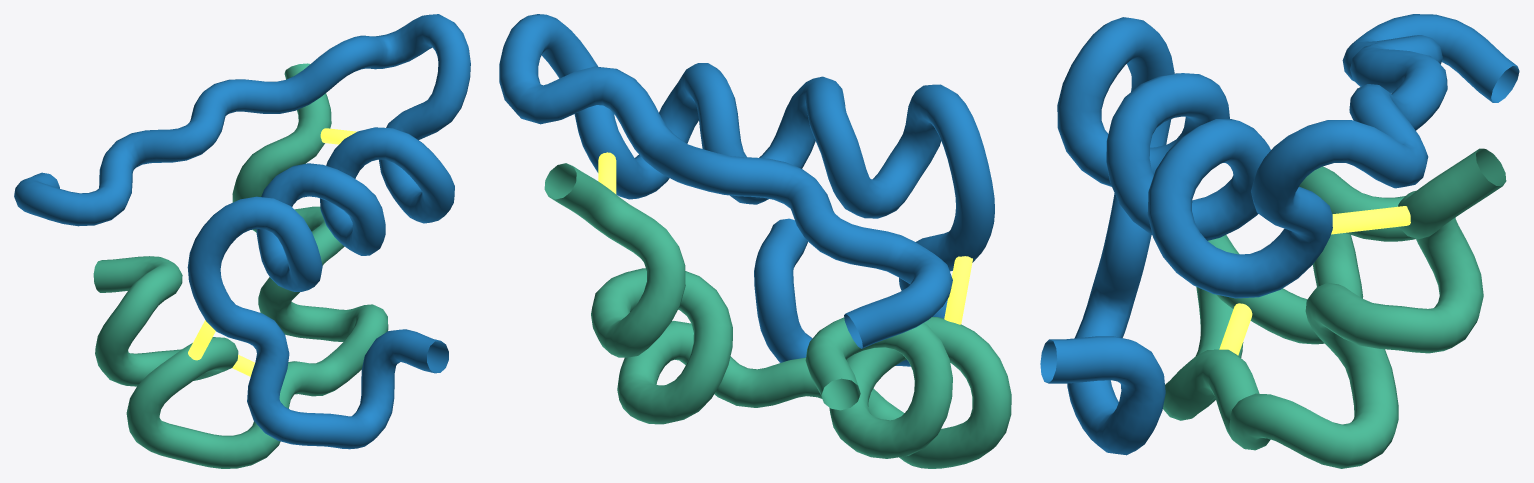
The model's file is insulin.glb.
3 renders of one model, left to right at view 1: azimuth 30°, elevation 25°; view 2: azimuth 150°, elevation 25°; view 3: azimuth 270°, elevation 25°, orthographic. The views are drawn at different scales.
Visible parts, largest first — view 1: insulin, insulin_SS; view 2: insulin, insulin_SS; view 3: insulin, insulin_SS.
Part boxes in pixels (box(x1,y1,x2,y2)): insulin: box(14, 14, 470, 468); insulin_SS: box(188, 128, 356, 376); insulin: box(499, 14, 1011, 468); insulin_SS: box(598, 152, 972, 324); insulin: box(1040, 14, 1519, 468); insulin_SS: box(1219, 206, 1410, 355).
Bounding box in the file's own units: 24.86 × 20.63 × 19.38.
